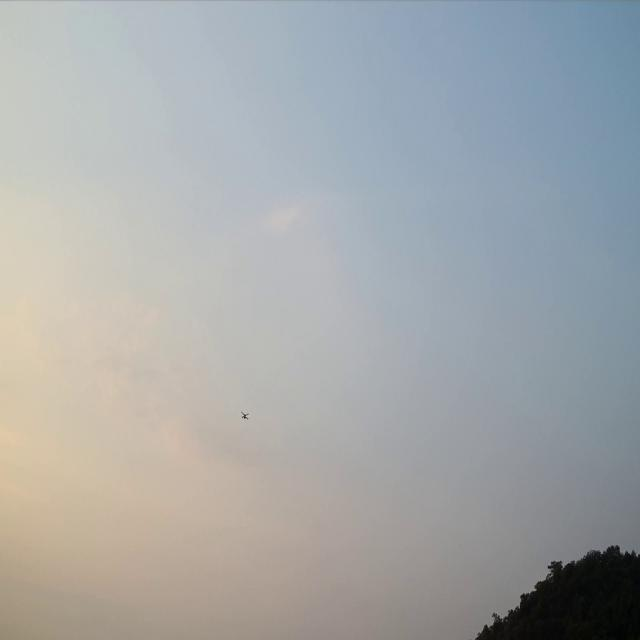drone: (240, 409, 250, 421)
